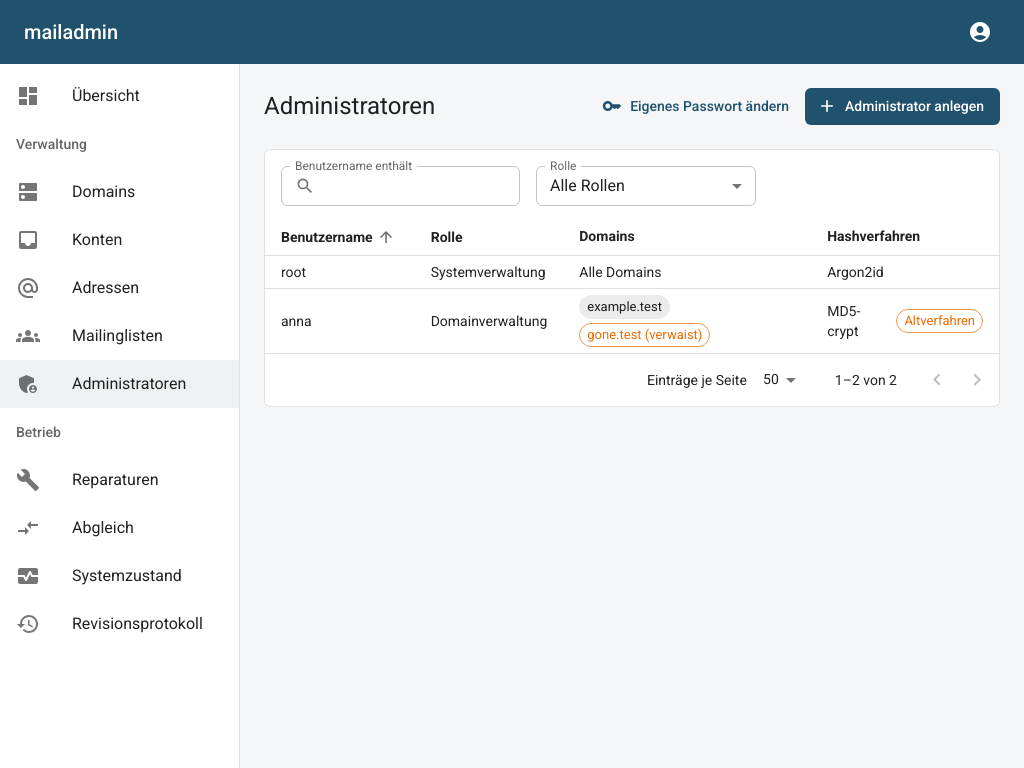
the administrator list › shows a refused creation through the catalogue
This screenshot has width=1024, height=768.
Click the button "Administrator anlegen". click: (903, 106)
box: [805,88,1000,124]
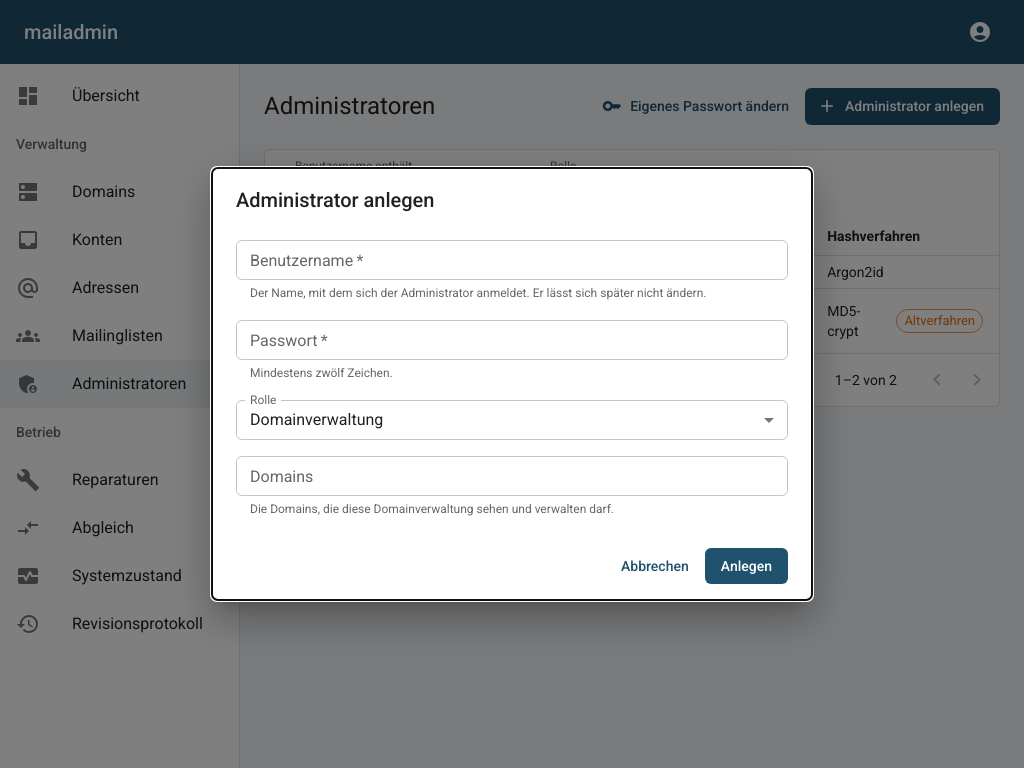
Type "root" into the field labelled "Benutzername *". click: (512, 260)
box: [236,240,788,280]
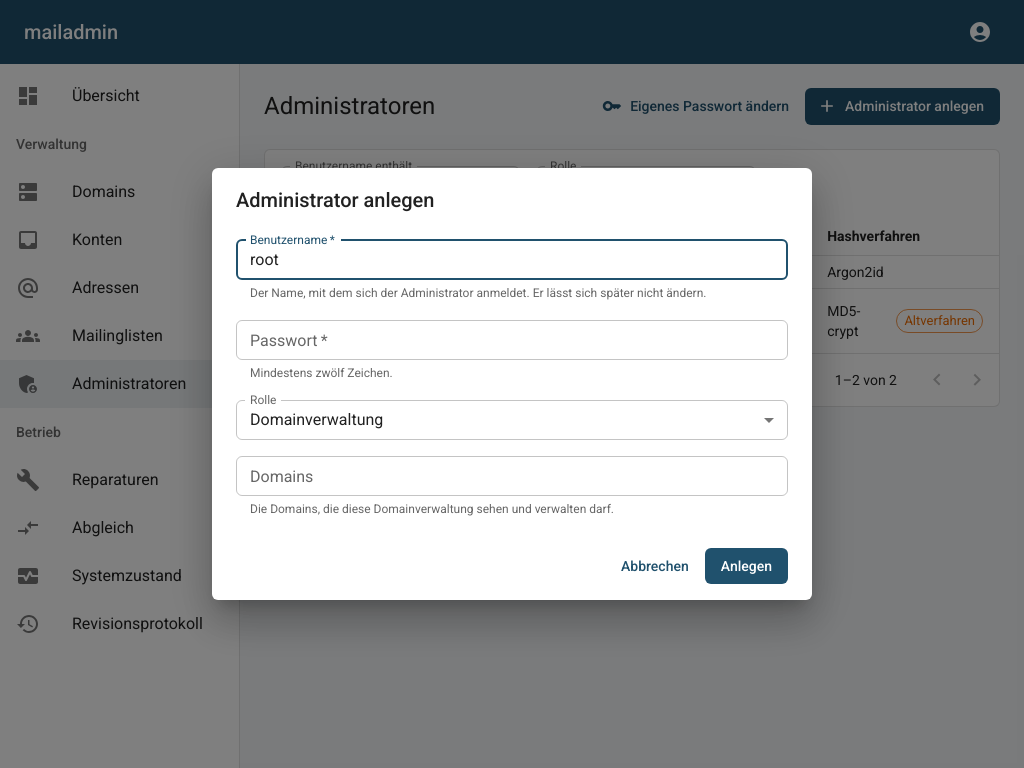
Type "correct horse battery" into the password field labelled "Passwort *". click: (512, 340)
box: [236,320,788,360]
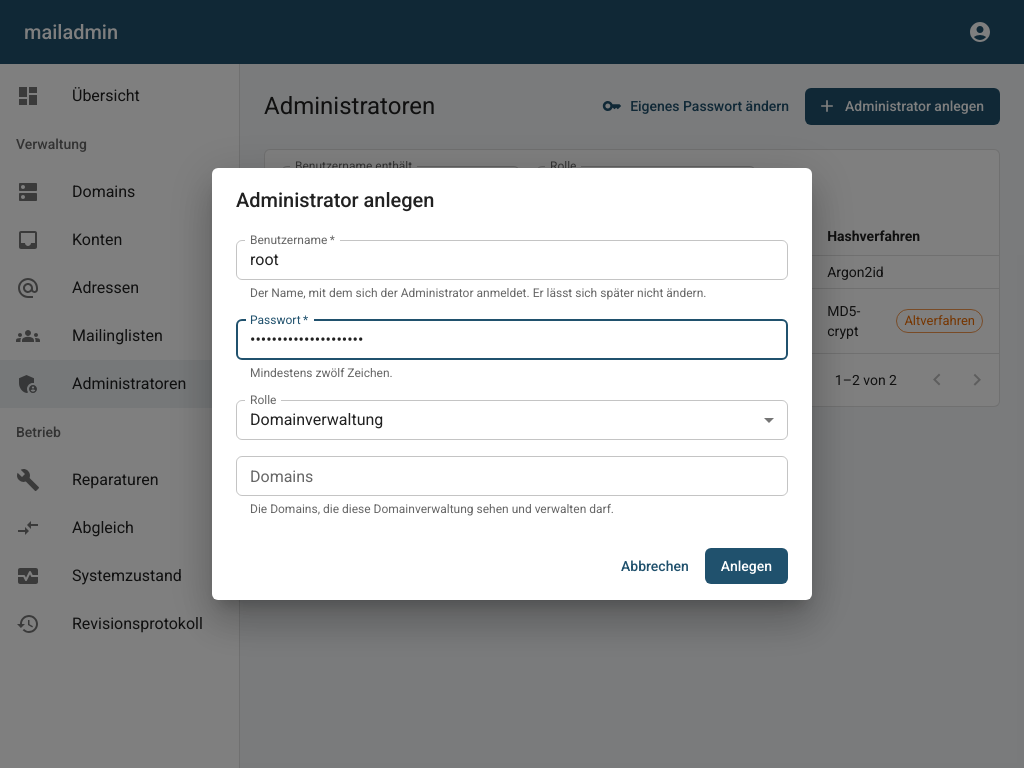
Click the button "Anlegen". click: (746, 566)
box: [705,548,788,584]
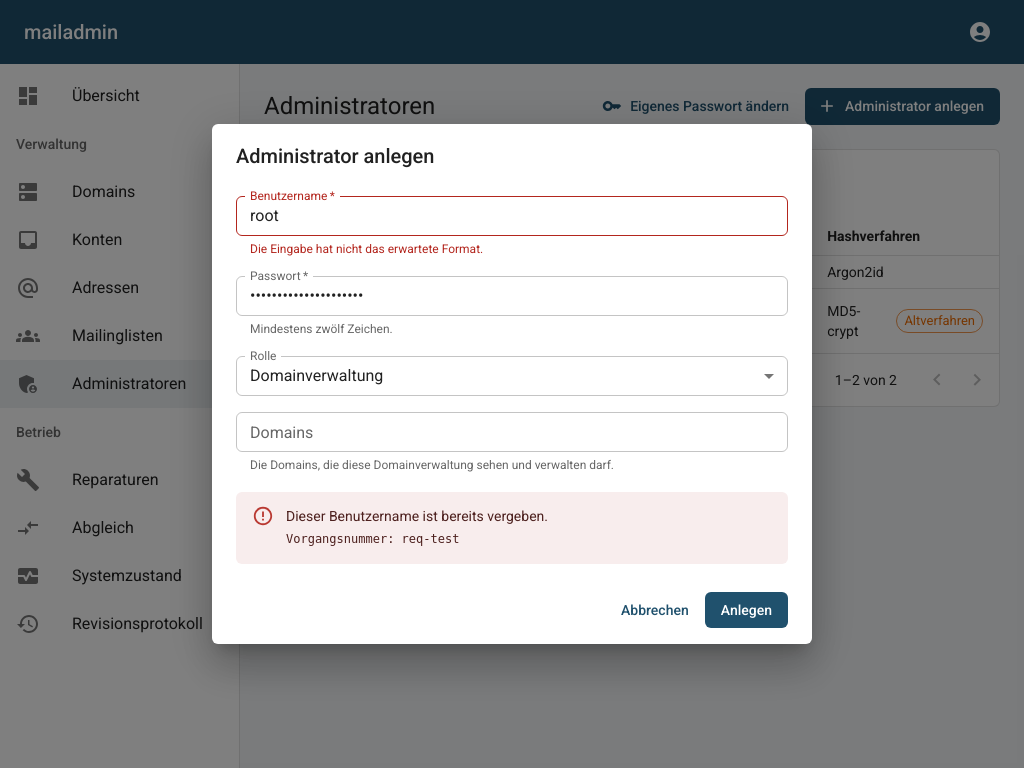
Result: the text "Dieser Benutzername ist bereits vergeben." is shown at [286,506,548,526]
